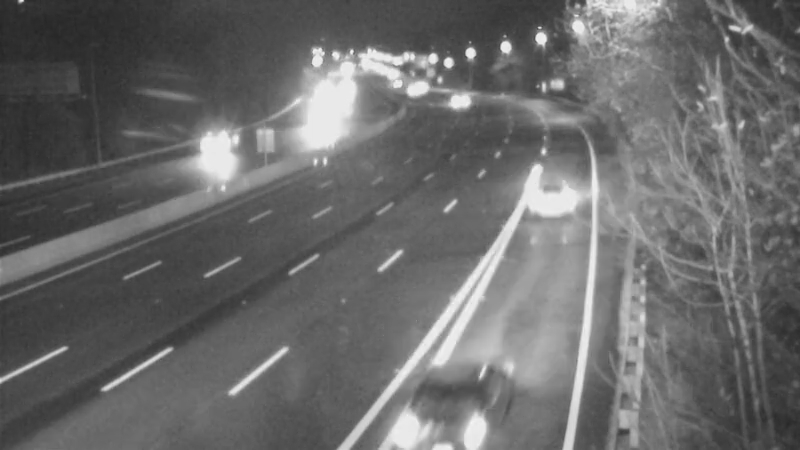vehicle: (385, 356, 495, 450), (509, 156, 589, 236), (176, 114, 256, 194), (430, 72, 480, 122), (287, 109, 337, 159)
